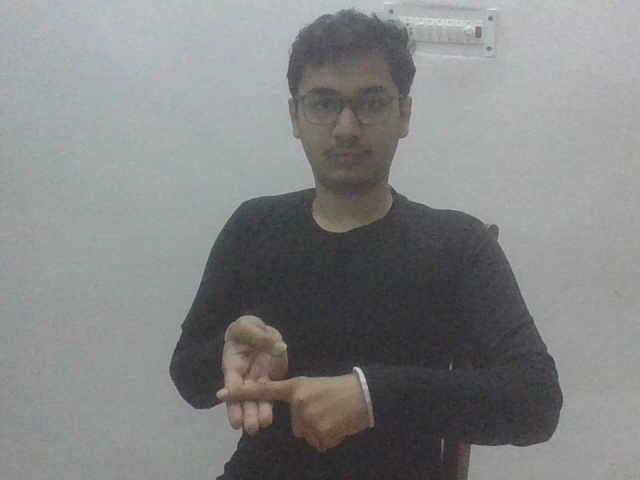E: (212, 310, 375, 456)
